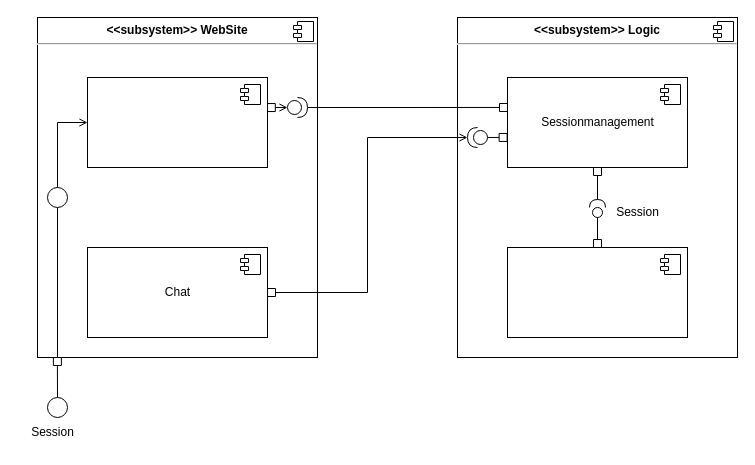
Image size: 755x465. Some labels were removed from this diagram. Here are the shapes that lost their labels. From the top down, the centre of each, then its label:
[177,122]: Authentication
[597,292]: Matchmaking
